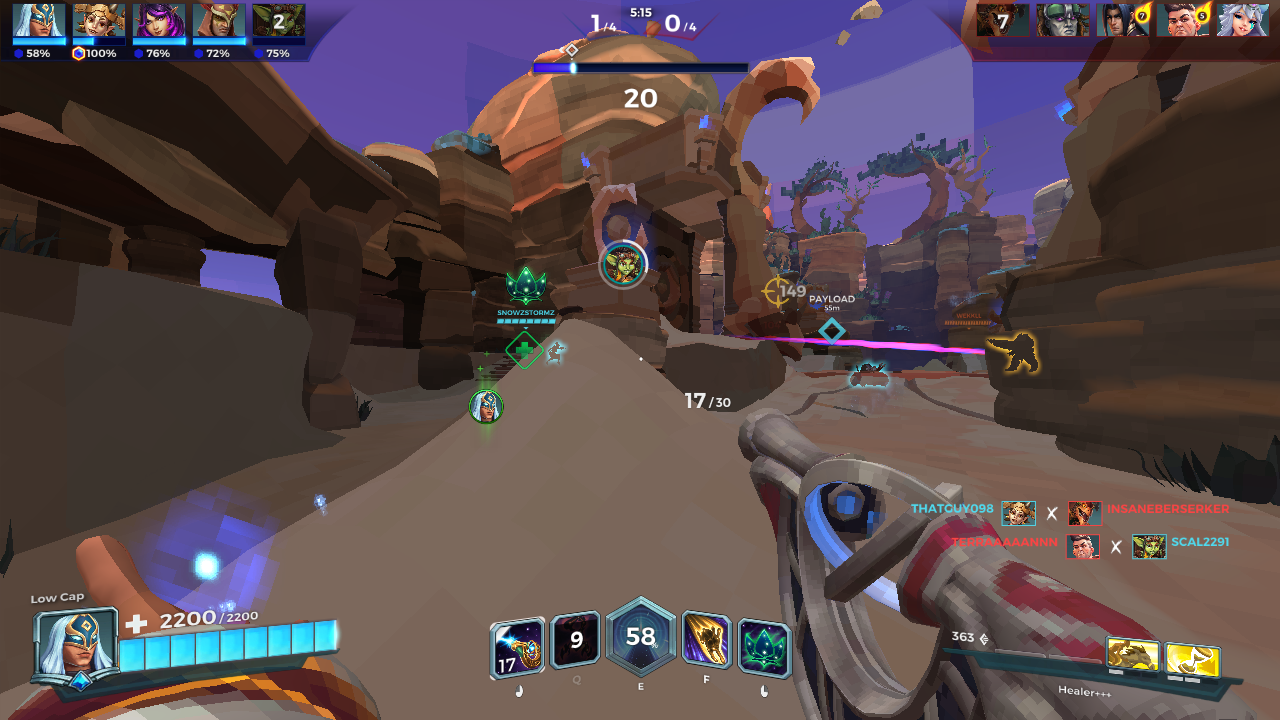model: (988, 330, 1043, 375)
